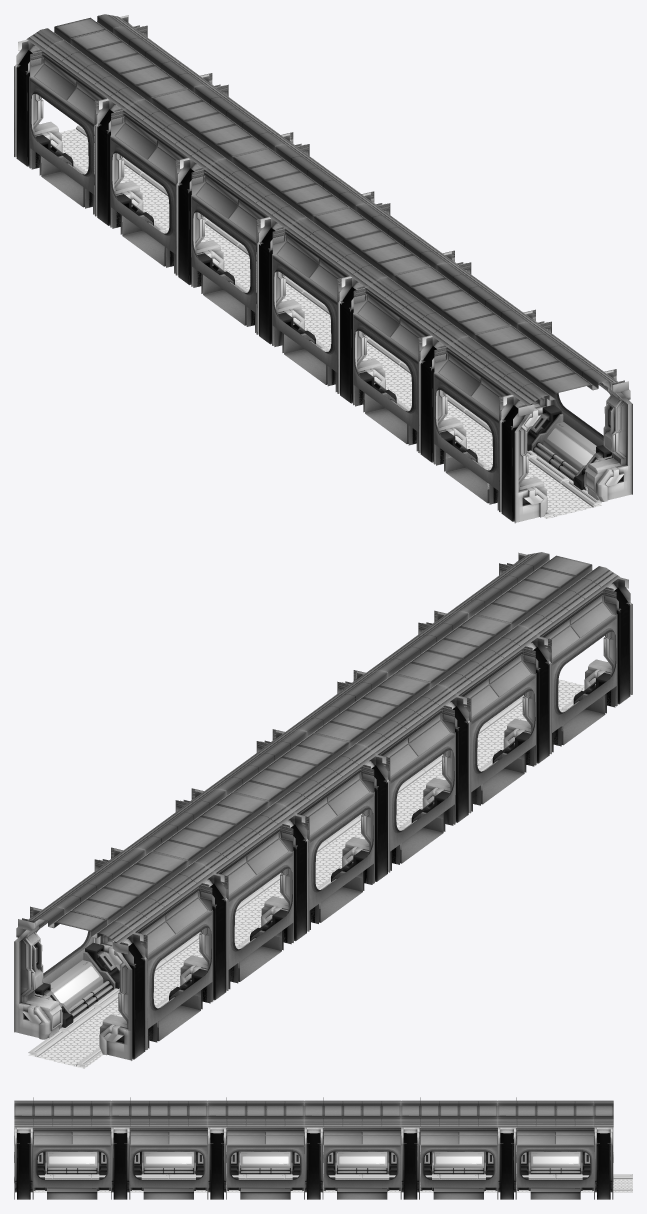
Rendered from Sci-Fi_Corridor_1_Final.fbx.
The picture shows the model from 3 angles, top to bottom: view 1: azimuth 30°, elevation 25°; view 2: azimuth 150°, elevation 25°; view 3: azimuth 270°, elevation 25°; orthographic projection. The views are drawn at different scales.
Parts seen in each view (by area): view 1: P3_lowpoly.008; view 2: P3_lowpoly.008; view 3: P3_lowpoly.008.
Part boxes in pixels (left/top/right/bottom): P3_lowpoly.008: left=14, top=14, right=632, bottom=523; P3_lowpoly.008: left=14, top=552, right=632, bottom=1068; P3_lowpoly.008: left=14, top=1097, right=632, bottom=1199.
Bounding box in the file's own units: 440 × 420 × 3201.
